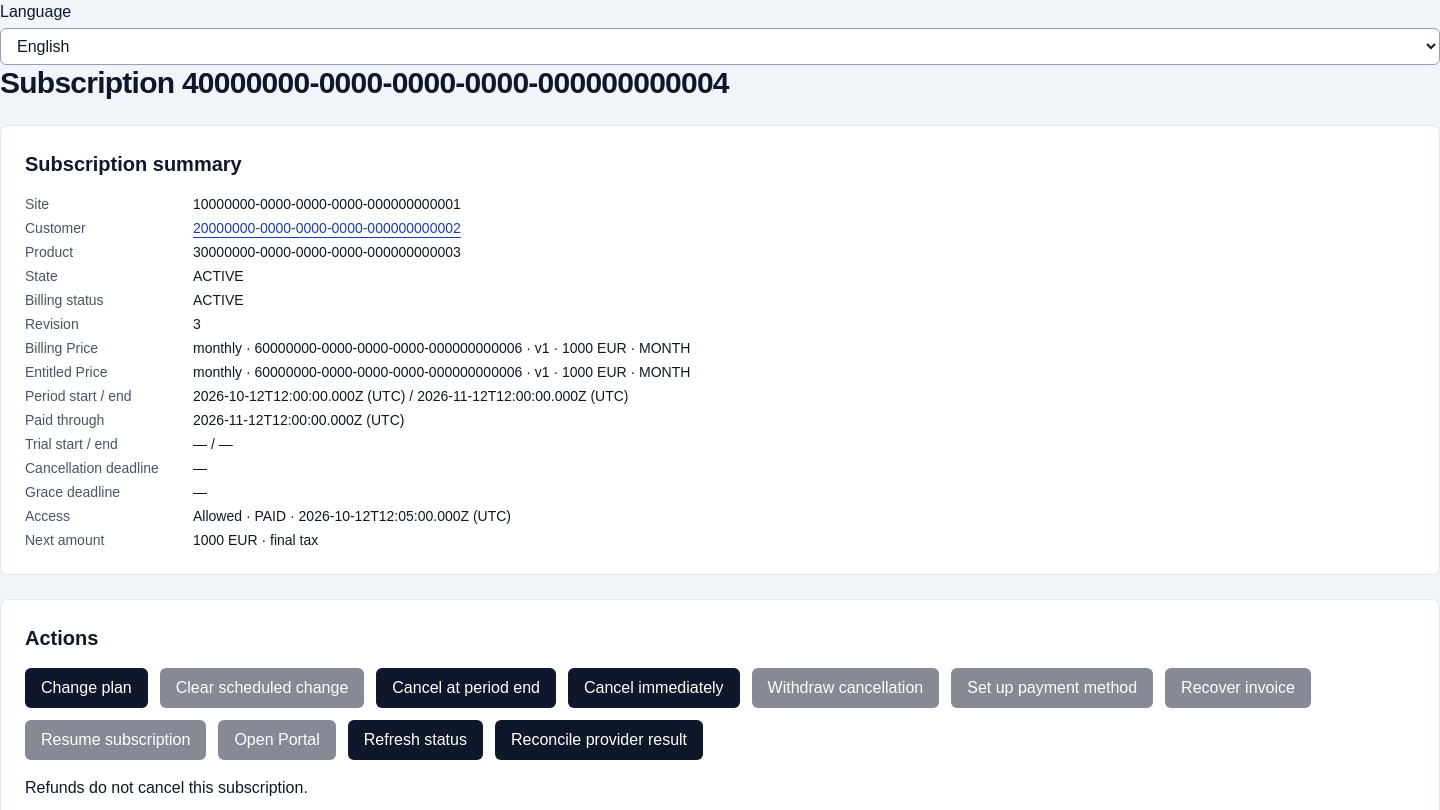
Scenario: preview 401 removes its quote intent and authority without a financial POST
This screenshot has width=1440, height=810.
Click the button "Change plan" at (86, 688), box x1=25 y1=668 x2=148 y2=708
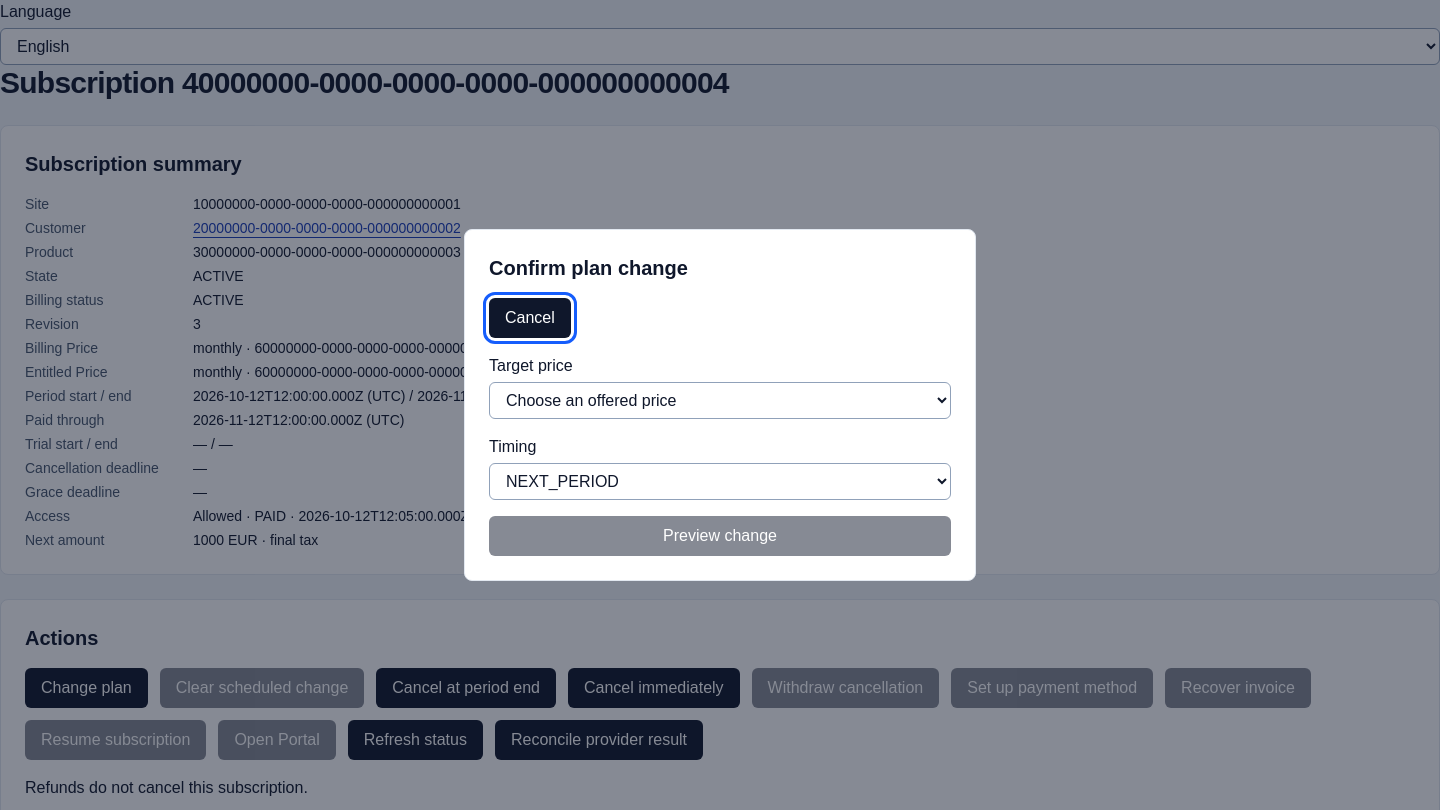
Select "monthly · v1 · 70000000-0000-0000-0000-000000000007 · UPGRADE" in the dropdown labelled "Target price" at (720, 400), box x1=489 y1=382 x2=951 y2=419
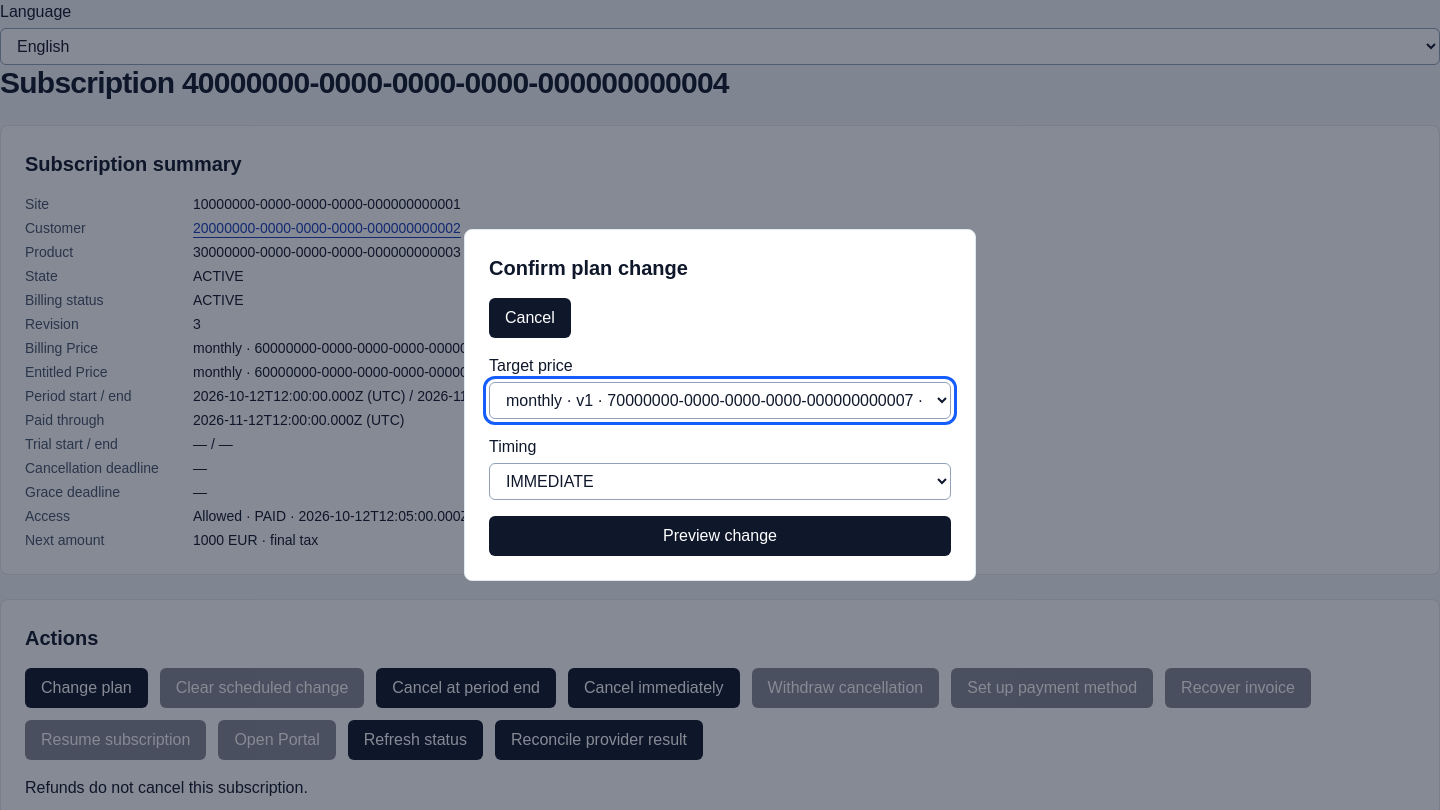
Click the button "Preview change" at (720, 536), box x1=489 y1=516 x2=951 y2=556
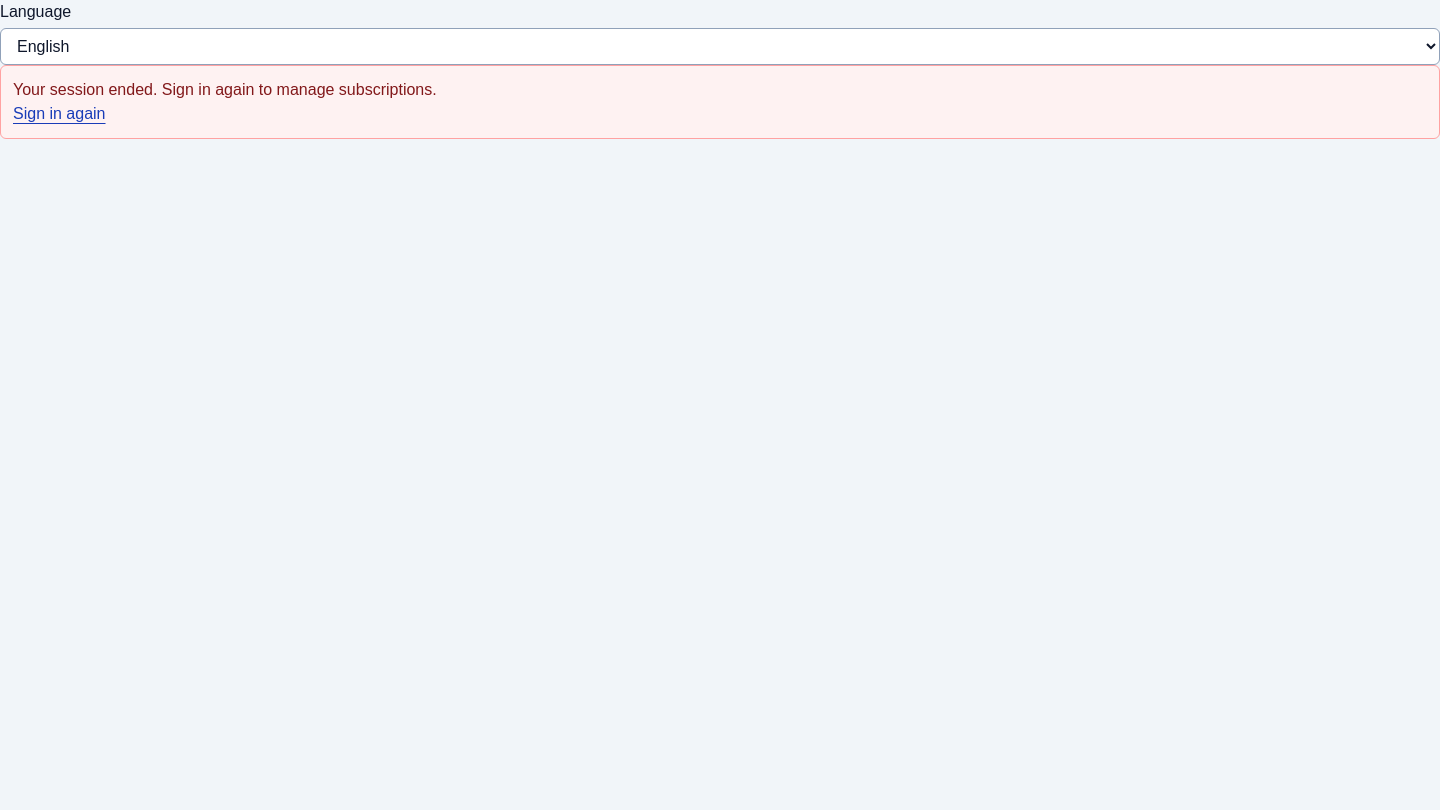
Result: the heading "Subscription summary" is gone
Result: the dialog is gone
Result: the button "Cancel immediately" is gone
